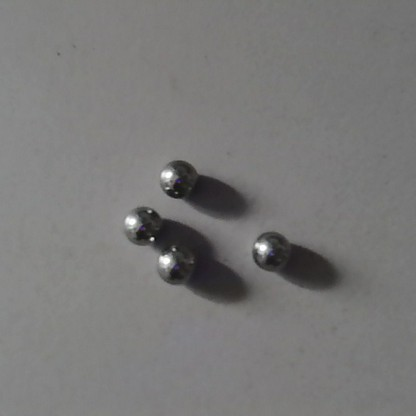ironball: (151, 241, 201, 287), (153, 156, 202, 202), (250, 228, 296, 274), (122, 203, 164, 248)
